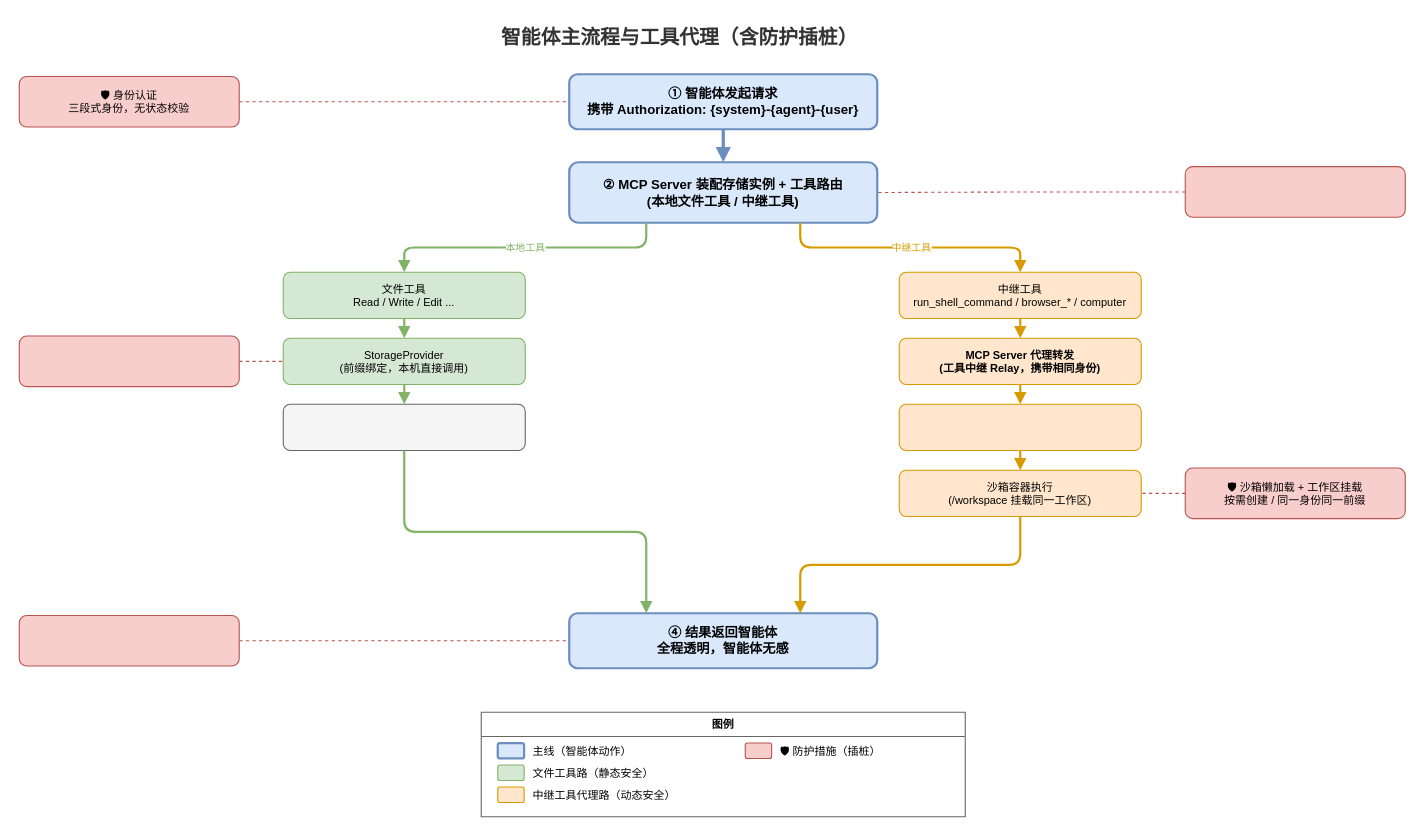
Some shapes in this 1425 by 836 pixel diagram are drawn without their labels. Here are the shapes that lost their labels. From the top down, the centre of each, then its label:
At (1294,191): "🛡 工作区隔离 + 配额 前缀绑定 / 装饰器零开销".
At (128,361): "🛡 路径安全 + 前置快照 绝对路径拒绝 / 可回滚".
At (403,426): "阿里云 OSS (工作区前缀下)".
At (1019,426): "下游沙箱 MCP Server (透明转发目标)".
At (128,640): "🛡 全程透明 智能体感知不到安全机制".
